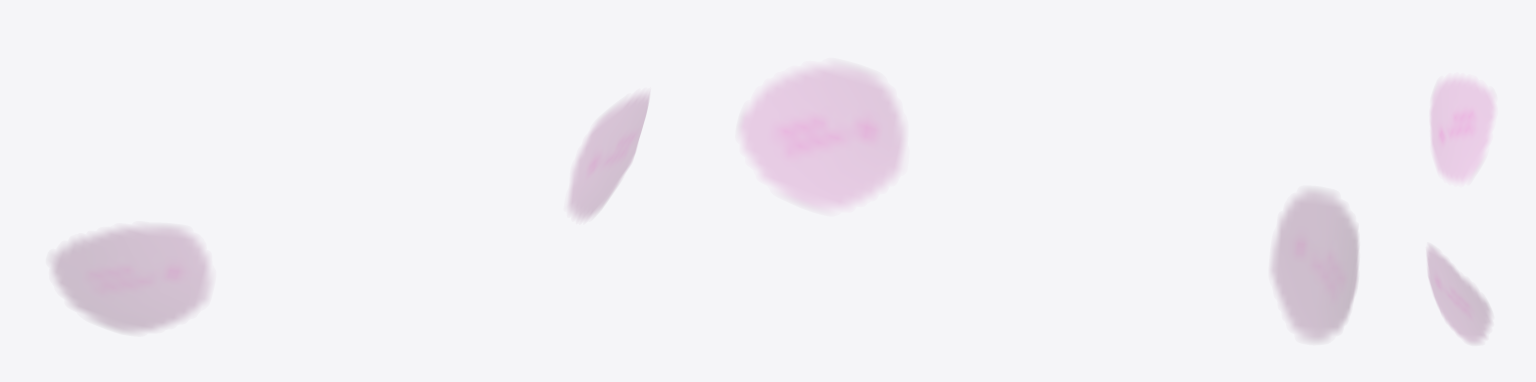
Rendered from Cheeks 6.glb.
3 views of the same model, side by side, from view 1: azimuth 30°, elevation 25°; view 2: azimuth 150°, elevation 25°; view 3: azimuth 270°, elevation 25° (orthographic). The views are drawn at different scales.
Visible parts, largest first — view 1: Cheeks_6; view 2: Cheeks_6; view 3: Cheeks_6.
Boxes of the visible parts, x1,y1,x2,y2 form: Cheeks_6: [52, 94, 648, 331]; Cheeks_6: [740, 66, 1358, 340]; Cheeks_6: [1427, 78, 1494, 342].
Size of the model in its own units: 0.00587 by 0.00202 by 0.00121.
Materials: 1 (1 with a texture image).
